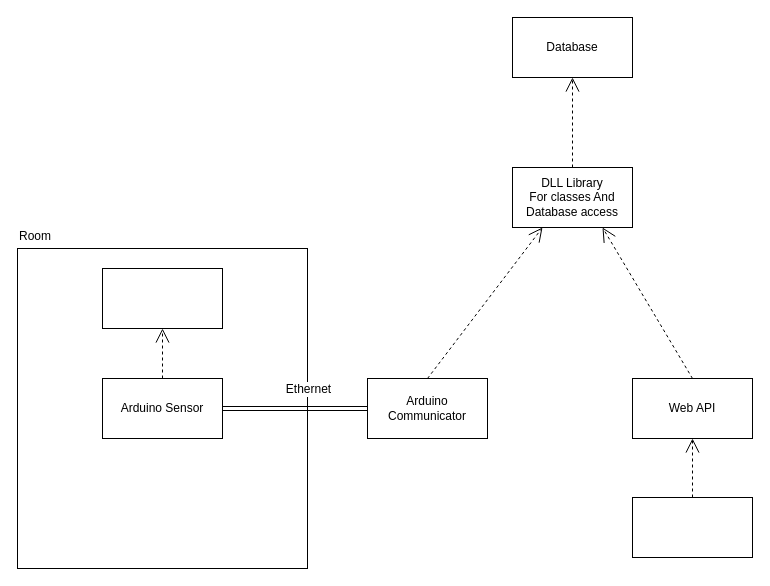
Some shapes in this 770 by 586 pixel diagram are drawn without their labels. The shapes that lost their labels are listed below. From the top down, each one's centre as x and y in pixels, then its label:
(x=162, y=298): Sensor
(x=692, y=527): Angular Website
